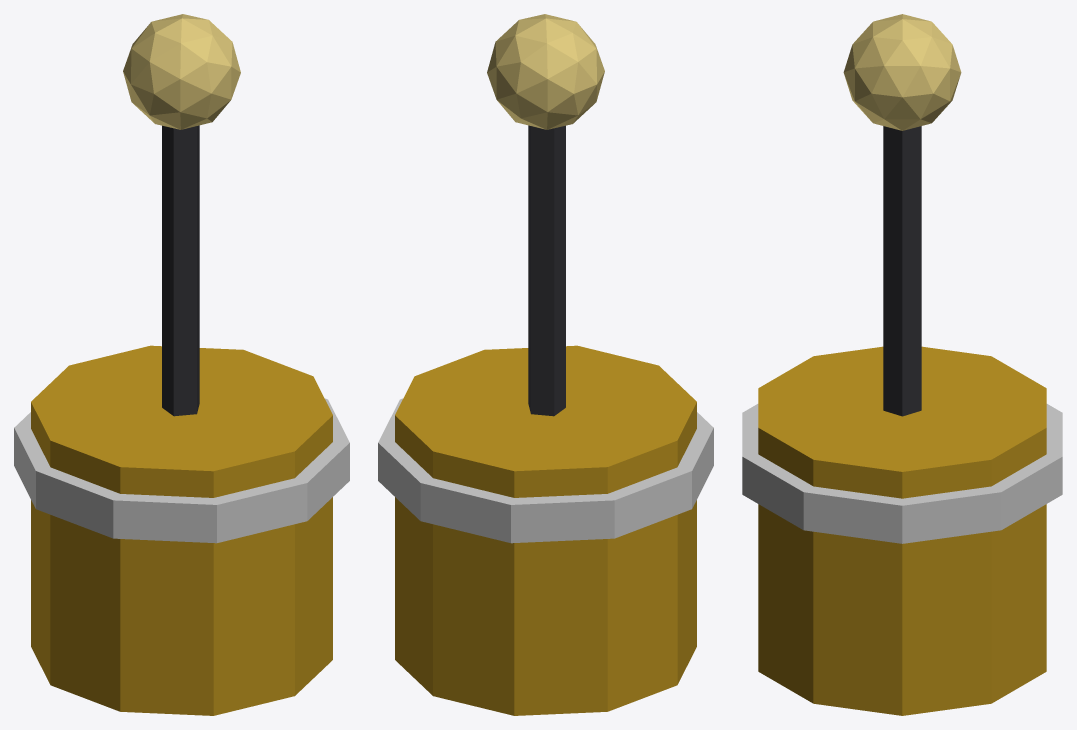
Rendered from buoy_route.glb.
3 views of the same model, side by side, from view 1: azimuth 30°, elevation 25°; view 2: azimuth 150°, elevation 25°; view 3: azimuth 270°, elevation 25° (orthographic).
Parts seen in each view (by area): view 1: geometry_0; view 2: geometry_0; view 3: geometry_0.
Boxes of the visible parts, x1,y1,x2,y2 form: geometry_0: [14, 14, 349, 715]; geometry_0: [378, 14, 713, 715]; geometry_0: [742, 14, 1062, 715].
Bounding box in the file's own units: 2 × 4.15 × 1.9.
